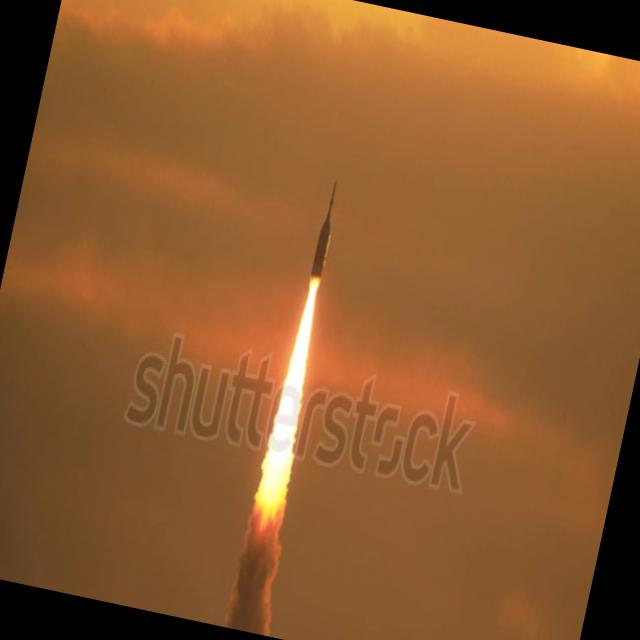rocket: (257, 180, 343, 501)
